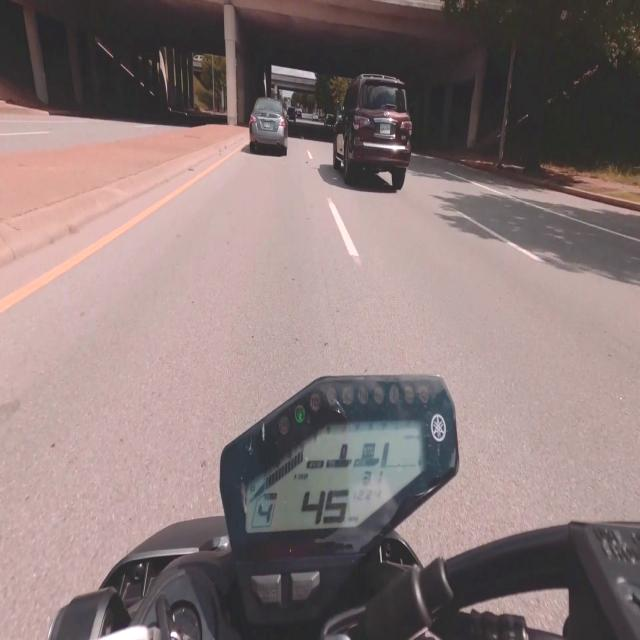car: (333, 75, 411, 189), (250, 98, 287, 155), (287, 107, 296, 122), (312, 112, 318, 121)
motorcycle: (49, 377, 639, 639)
